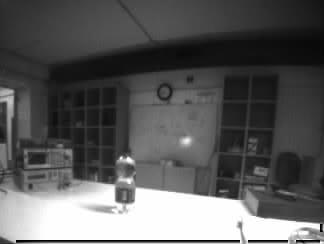Bottle: (115, 148, 136, 212)
